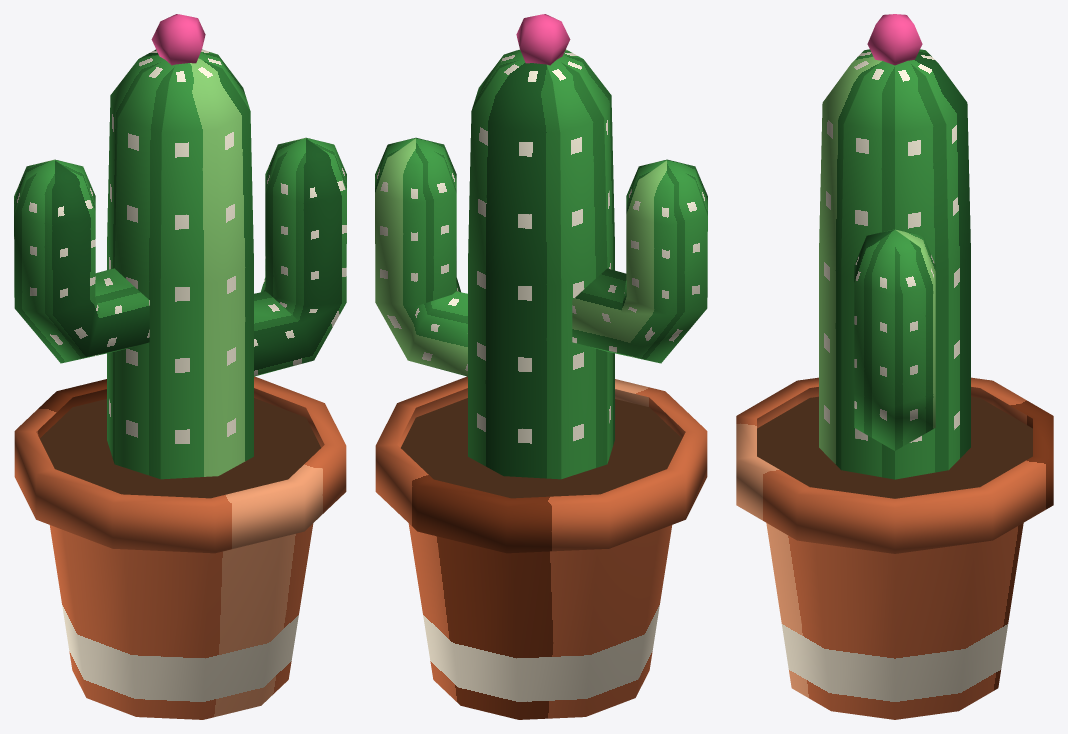
The model's file is fun-cactus.glb.
3 renders of one model, left to right at view 1: azimuth 30°, elevation 25°; view 2: azimuth 150°, elevation 25°; view 3: azimuth 270°, elevation 25°, orthographic.
Parts seen in each view (by area): view 1: fun.cactus; view 2: fun.cactus; view 3: fun.cactus.
Part boxes in pixels (left/top/right/bottom): fun.cactus: left=14, top=14, right=346, bottom=719; fun.cactus: left=375, top=14, right=707, bottom=719; fun.cactus: left=736, top=14, right=1053, bottom=719.
Size of the model in its own units: 1.01 by 1.92 by 0.8342.
4 materials, 2 textured.
